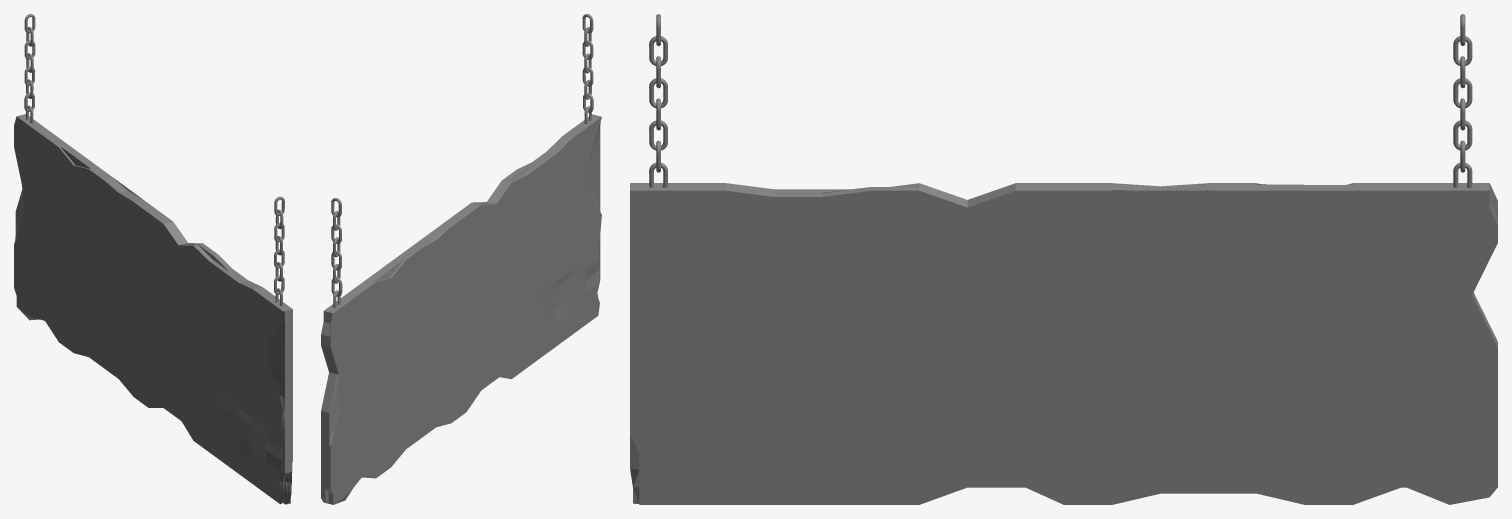
Rendered from Sign shop.fbx.
3 views of the same model, side by side, from view 1: azimuth 30°, elevation 25°; view 2: azimuth 150°, elevation 25°; view 3: azimuth 270°, elevation 25° (orthographic). The views are drawn at different scales.
Visible parts, largest first — view 1: Sign, Torus.001; view 2: Sign, Torus.001; view 3: Sign, Torus.001.
Part boxes in pixels (box(x1,y1,x2,y2)): Sign: box(14, 114, 292, 504); Torus.001: box(24, 14, 284, 305); Sign: box(321, 114, 601, 504); Torus.001: box(331, 14, 593, 307); Sign: box(630, 183, 1497, 504); Torus.001: box(649, 14, 1472, 187).
Bounding box in the file's own units: 0.3111 × 13.8 × 8.54.
